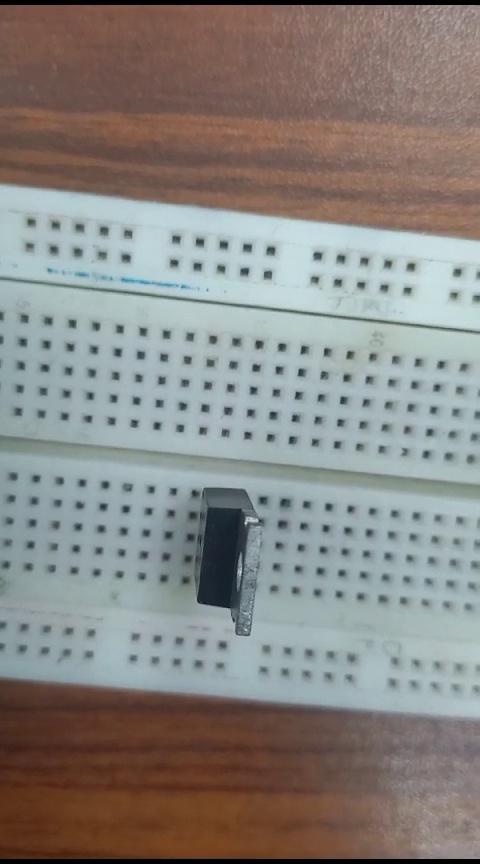voltage regulator: (189, 485, 274, 635)
